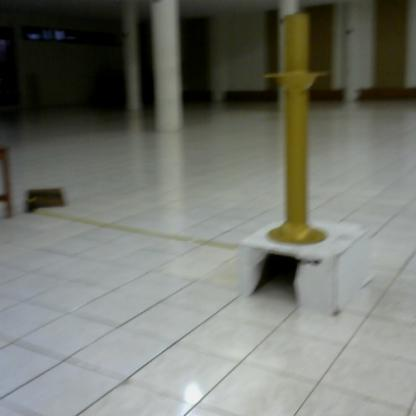pole: (260, 10, 340, 254)
